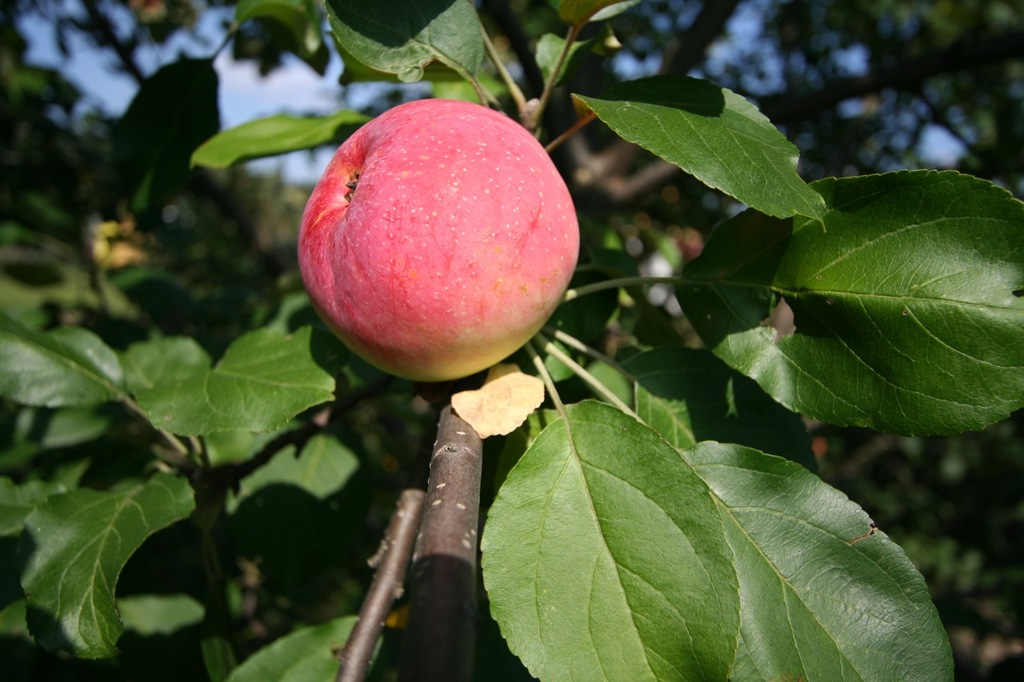Apple: (298, 96, 580, 381)
